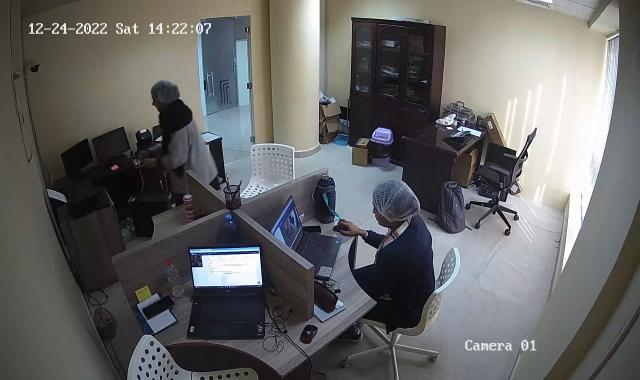hairnet: (374, 179, 420, 232), (150, 80, 180, 108)
